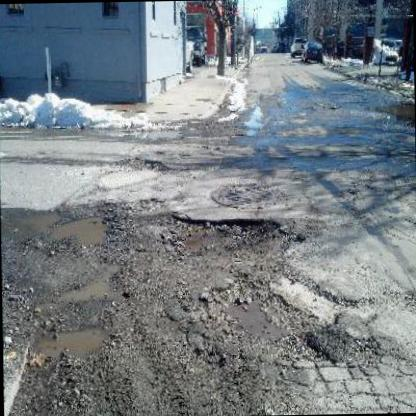pothole: (191, 268, 322, 362), (168, 206, 291, 258), (14, 202, 123, 250), (29, 318, 112, 362), (56, 258, 128, 304), (114, 158, 168, 174)
